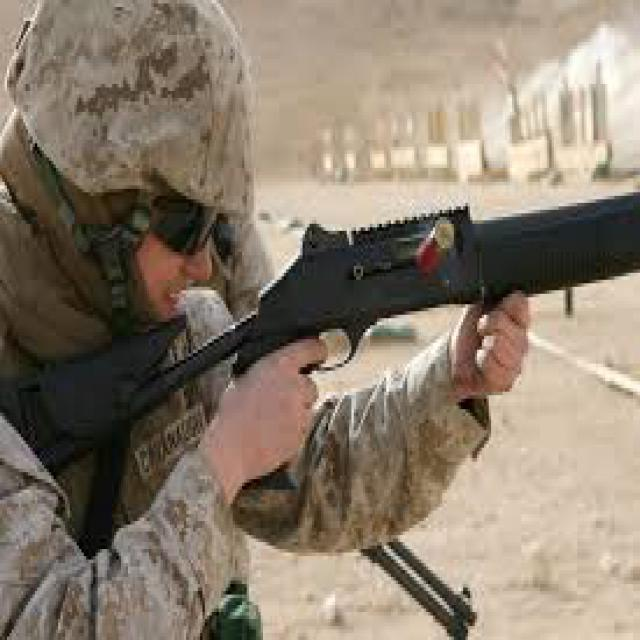long weapon: (11, 167, 638, 502)
